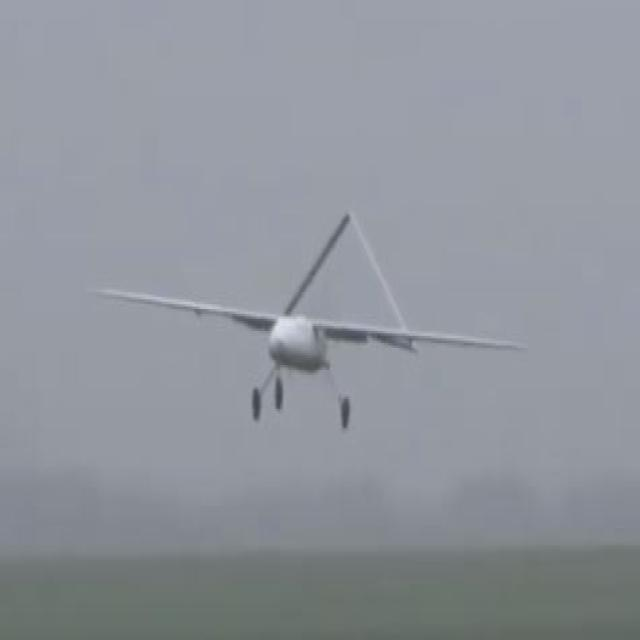iha: (81, 207, 530, 432)
